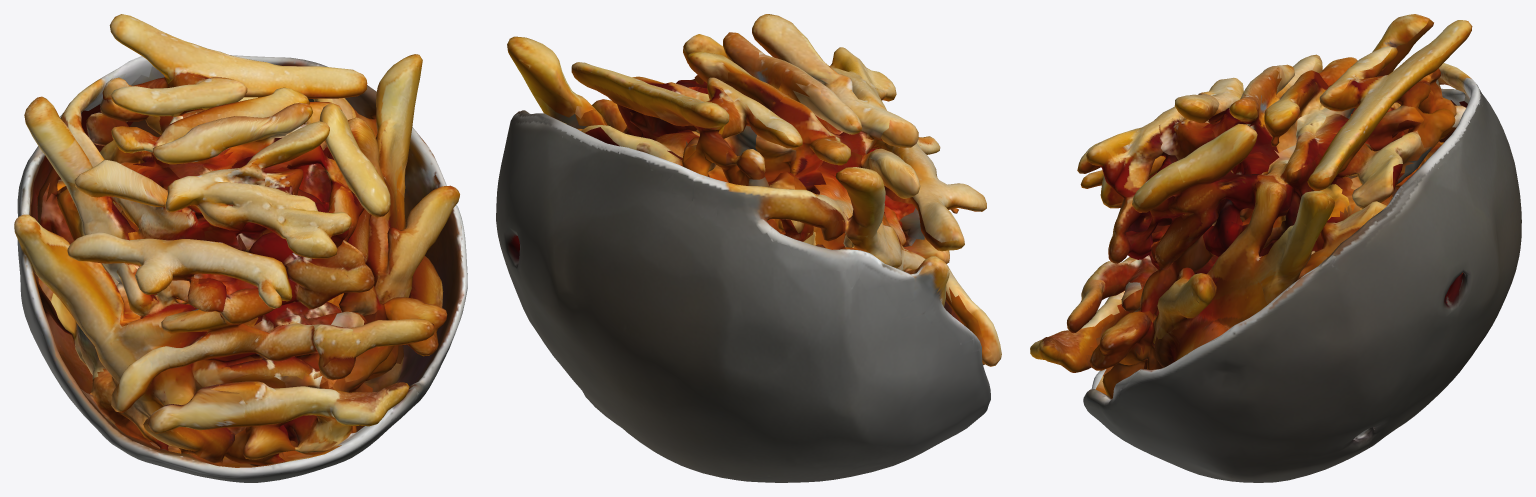
Rendered from frenchFries.glb.
3 views of the same model, side by side, from view 1: azimuth 30°, elevation 25°; view 2: azimuth 150°, elevation 25°; view 3: azimuth 270°, elevation 25° (orthographic). The views are drawn at different scales.
Parts seen in each view (by area): view 1: Mesh; view 2: Mesh; view 3: Mesh.
Boxes of the visible parts, x1,y1,x2,y2 form: Mesh: (14, 14, 467, 482); Mesh: (496, 14, 1001, 482); Mesh: (1030, 14, 1521, 482).
Size of the model in its own units: 0.9753 by 0.9008 by 0.9739.
Materials: 1 (1 with a texture image).
